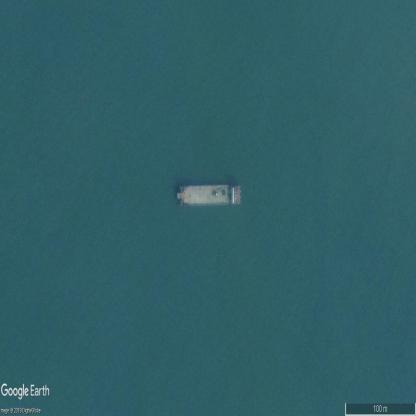ship: (176, 183, 242, 206)
